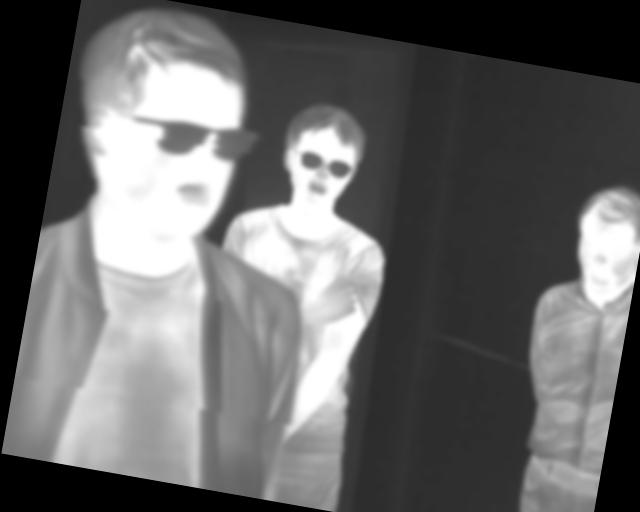face: (58, 1, 261, 246), (275, 97, 372, 215), (564, 177, 640, 300)
